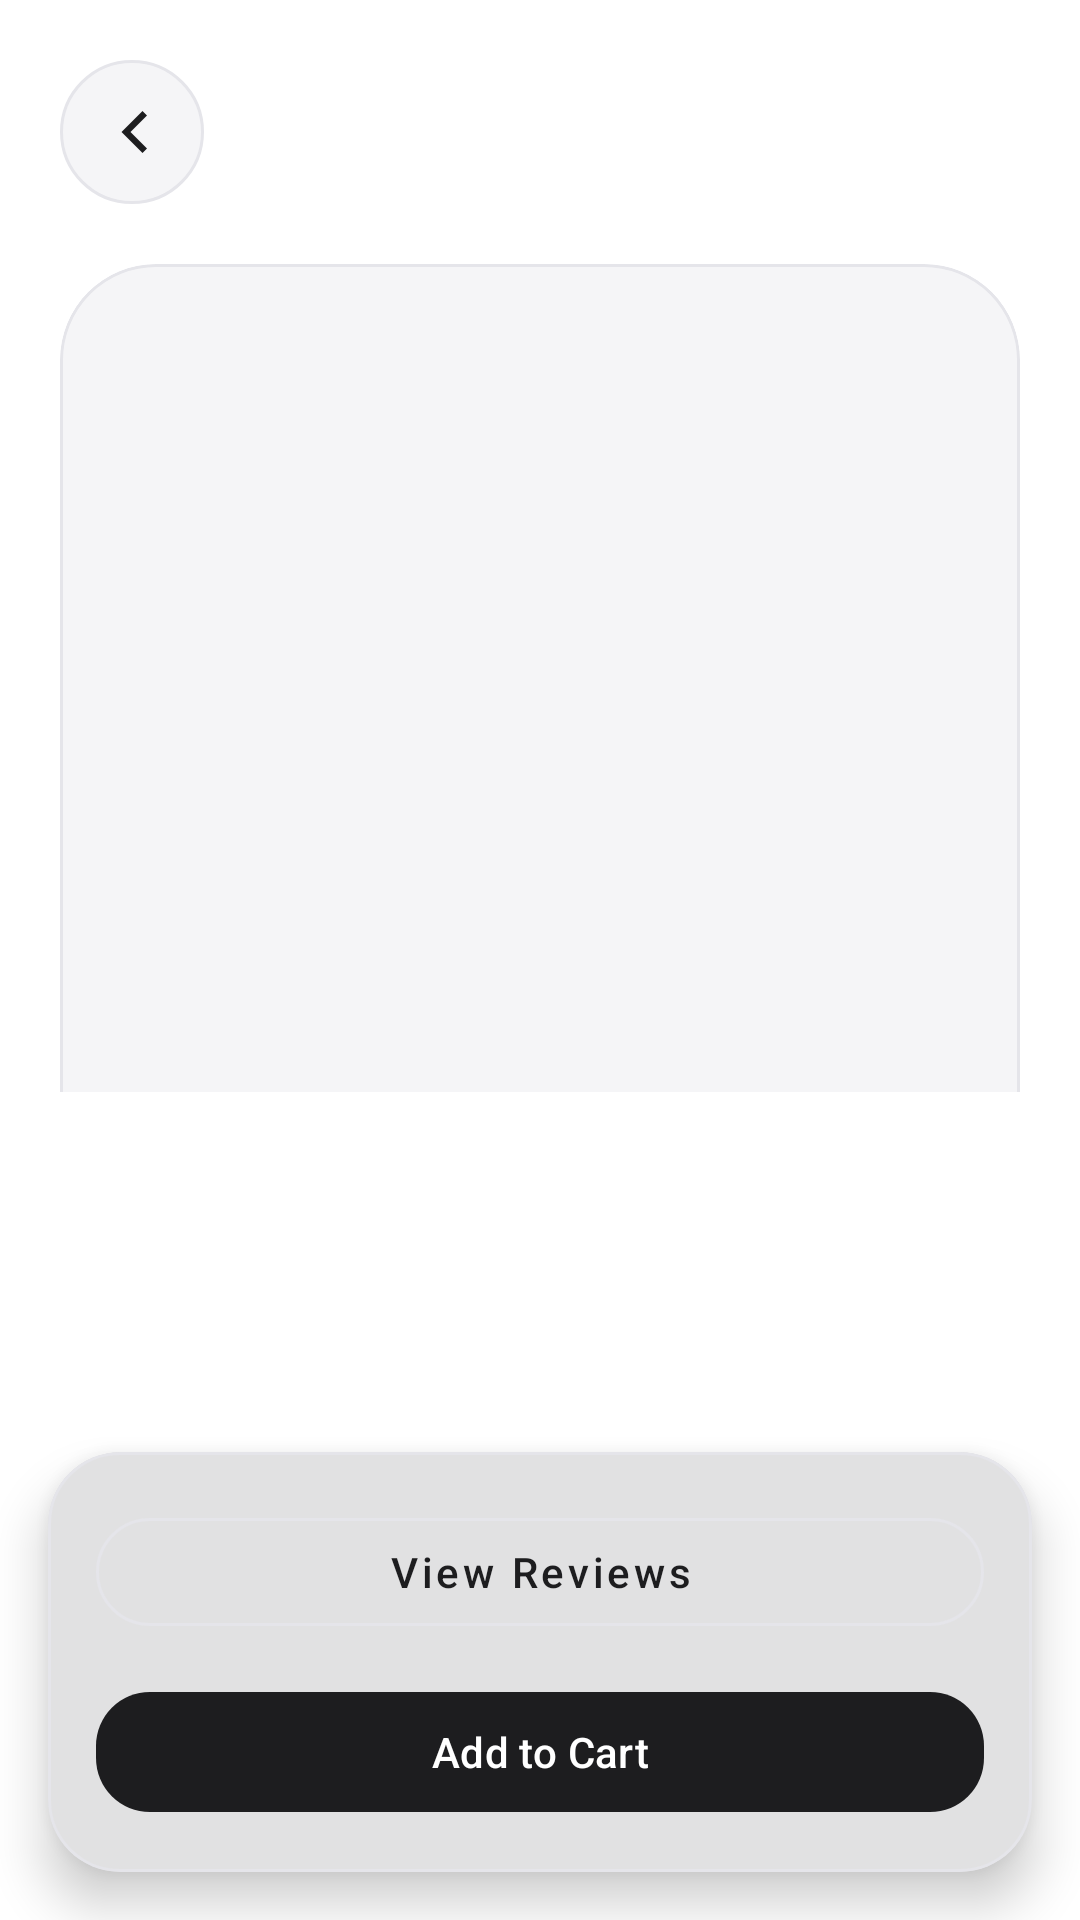

Named icons in this screenshot (1080*1920) and their bounding boxes, (x1, y1, x2, y2):
Back: (60, 60, 204, 204)
